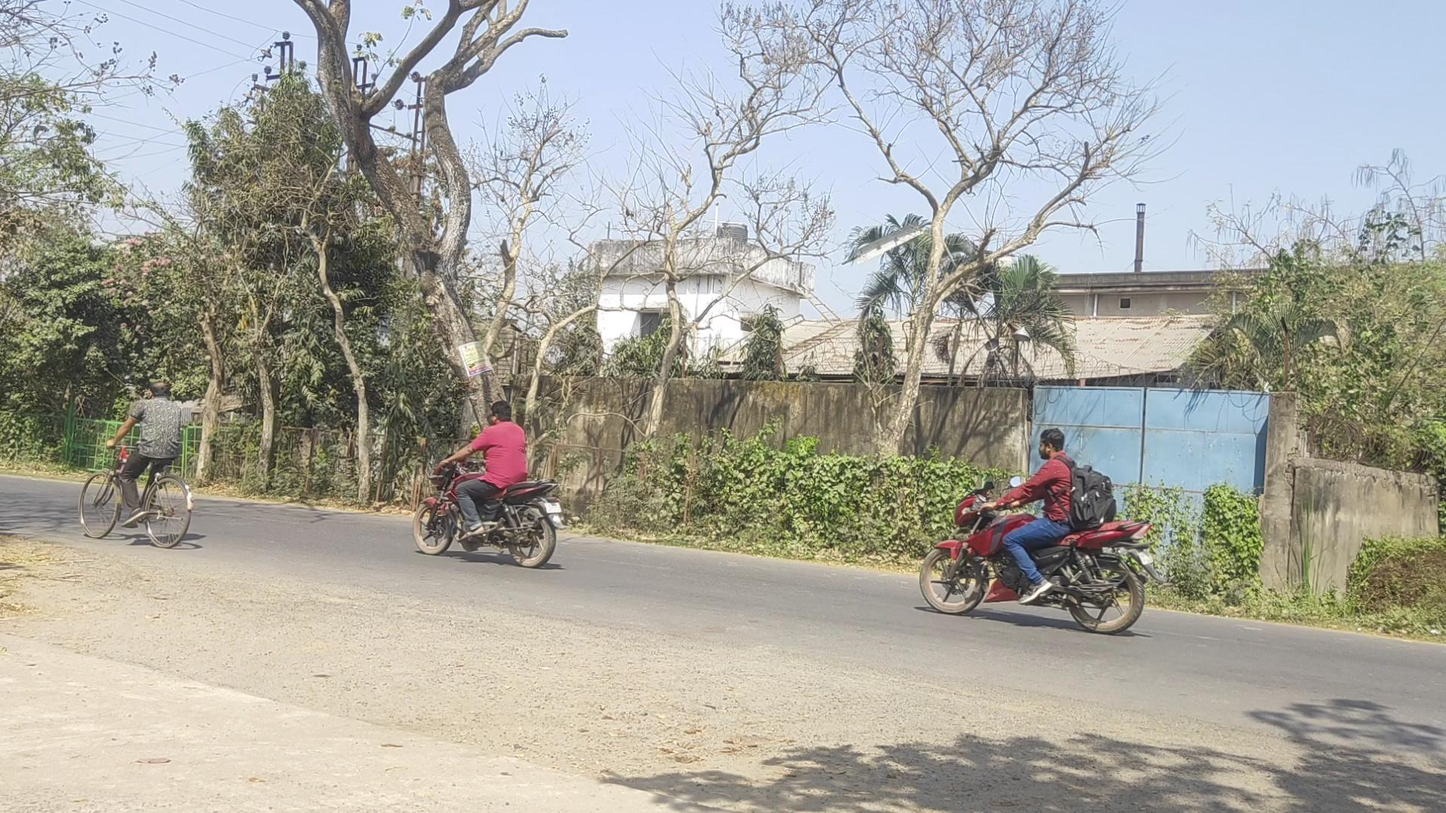bike: (920, 428, 1161, 635), (411, 400, 566, 568), (78, 382, 194, 548)
